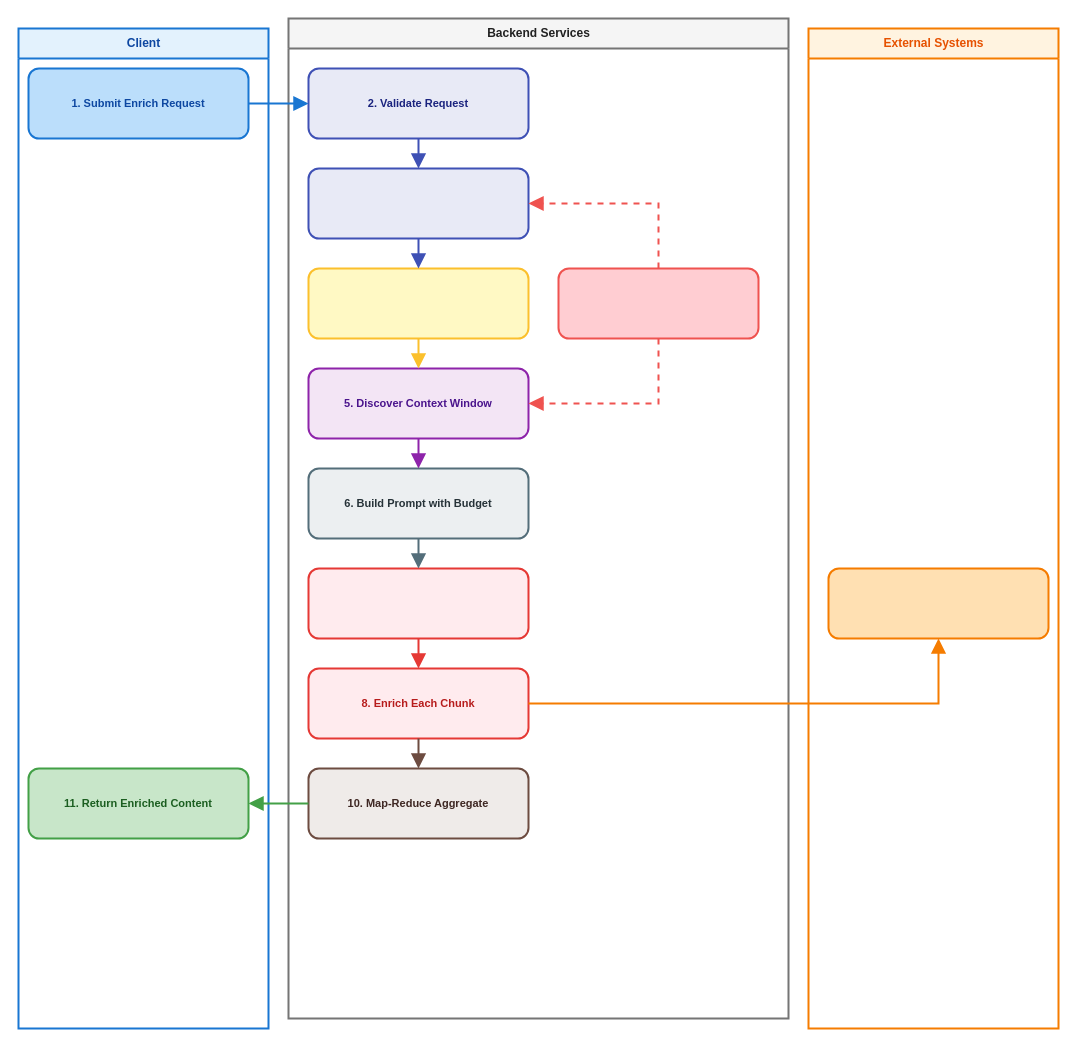
Image size: 1076x1046. Some labels were removed from this diagram. The shapes that lost their labels are listed below. From the top down, each one's centre as x and y in pixels, then its label:
the point at 418,203: 3. Resolve Active Model
the point at 418,303: 4. Calculate Dynamic Budget
the point at 658,303: 12. Model Swap Runtime
the point at 418,603: 7. Split into Chunks
the point at 938,603: 9. Call LLM Provider
